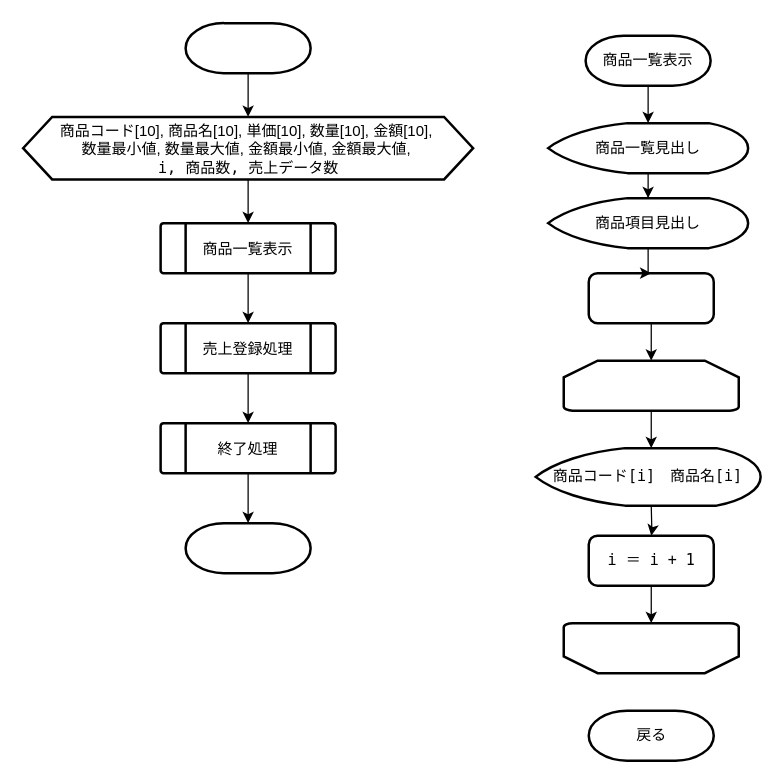
This 783x783 diagram has some shape labels left out. The shapes that lost their labels are listed below. From the top down, each one's box as (x1, y1, x2, y2) in pixels, then its label:
(184, 21, 311, 74): 開始
(587, 271, 714, 324): i ＝ 0
(562, 359, 739, 411): 表示ループ i ＜ 商品数
(184, 521, 311, 574): 終了
(562, 621, 739, 674): 表示ループ
